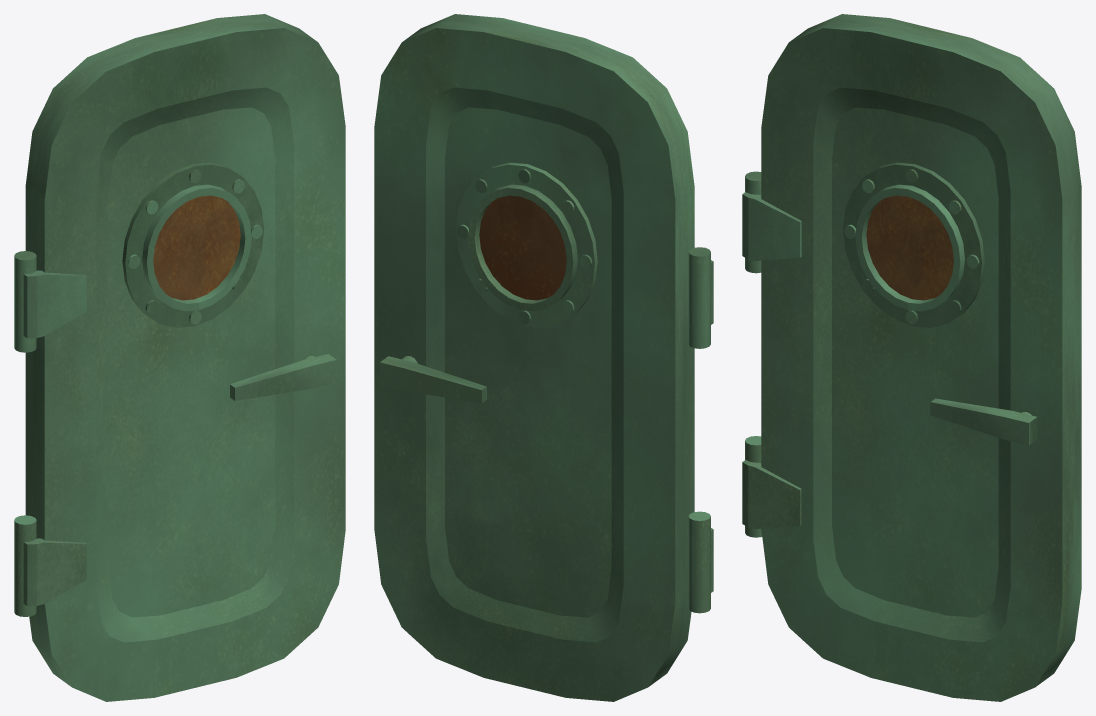
The model's file is Door.FBX.
The picture shows the model from 3 angles, left to right: view 1: azimuth 30°, elevation 25°; view 2: azimuth 150°, elevation 25°; view 3: azimuth 330°, elevation 25°; orthographic projection.
Parts seen in each view (by area): view 1: Object005; view 2: Object005; view 3: Object005.
Part boxes in pixels (bbox=[...]): Object005: bbox=[14, 14, 345, 701]; Object005: bbox=[374, 14, 713, 701]; Object005: bbox=[742, 14, 1081, 701].
Size of the model in its own units: 116 by 222 by 29.41.
